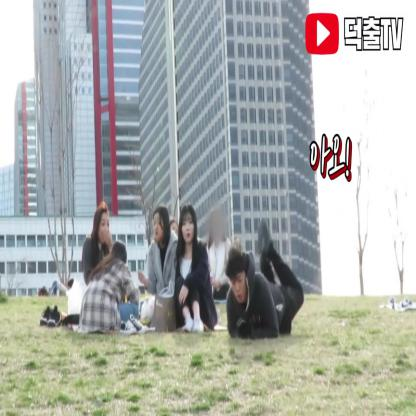Fall_Down: (224, 218, 305, 345)
